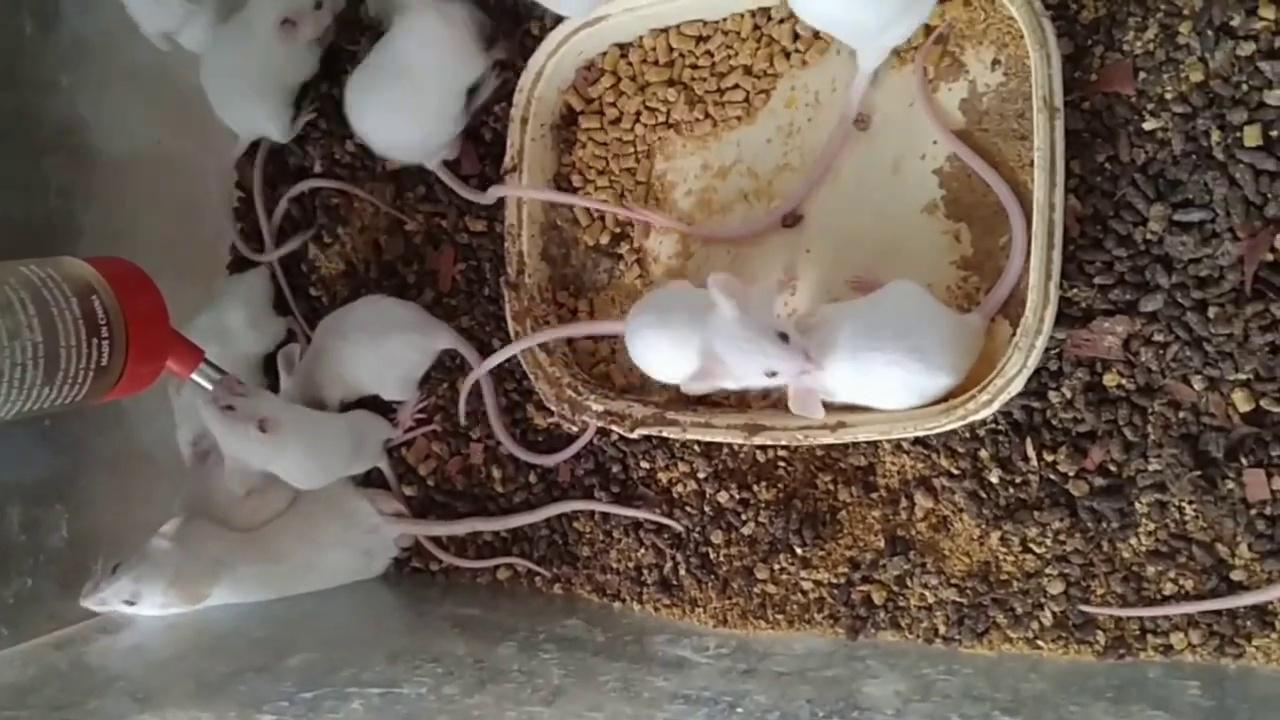rat: (788, 21, 1030, 417), (80, 492, 684, 615), (346, 0, 660, 227), (204, 374, 552, 577), (461, 271, 822, 426), (278, 293, 596, 466), (198, 0, 348, 259), (170, 264, 292, 470)
